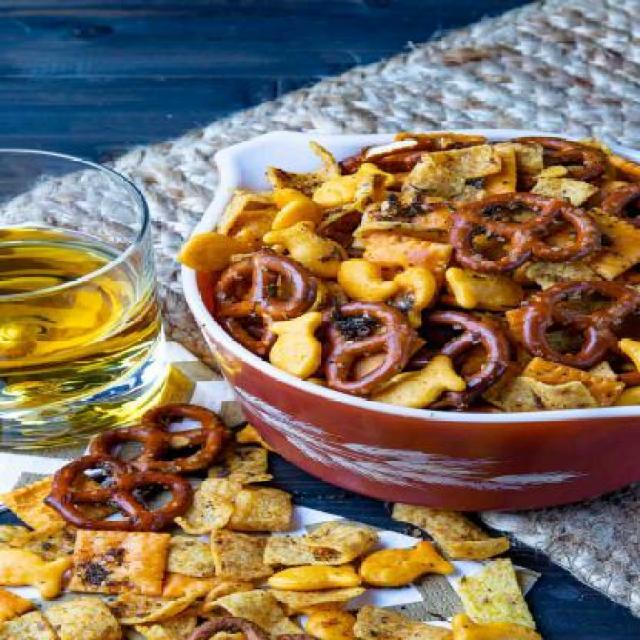Salatini packaged: (181, 125, 640, 402), (9, 443, 506, 640)
